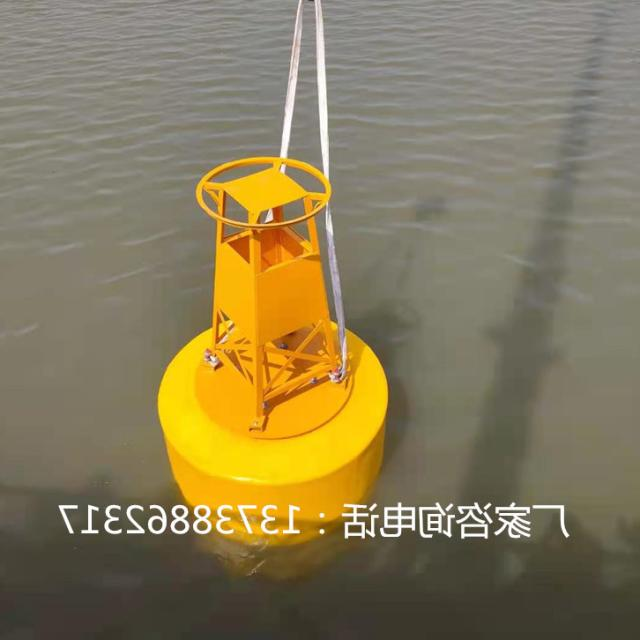buoy: (166, 153, 383, 531)
